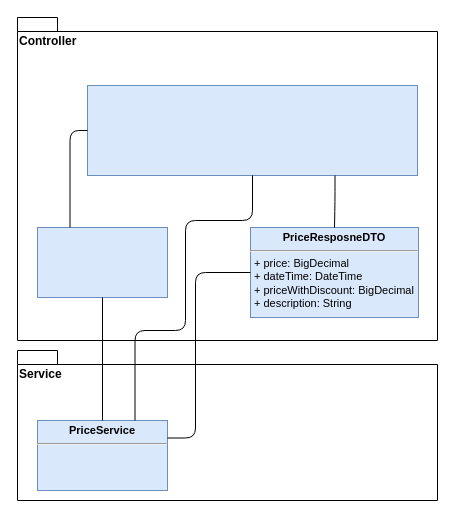
This 455x518 diagram has some shape labels left out. Each missing label, with the centre of its shape:
"PriceController + priceCalculate(PriceRequestDTO): PriceResponseDTO" belongs at point 252,130.
"PriceRequestDTO + price: BigDecimal + dateTime: DateTime" belongs at point 102,262.
